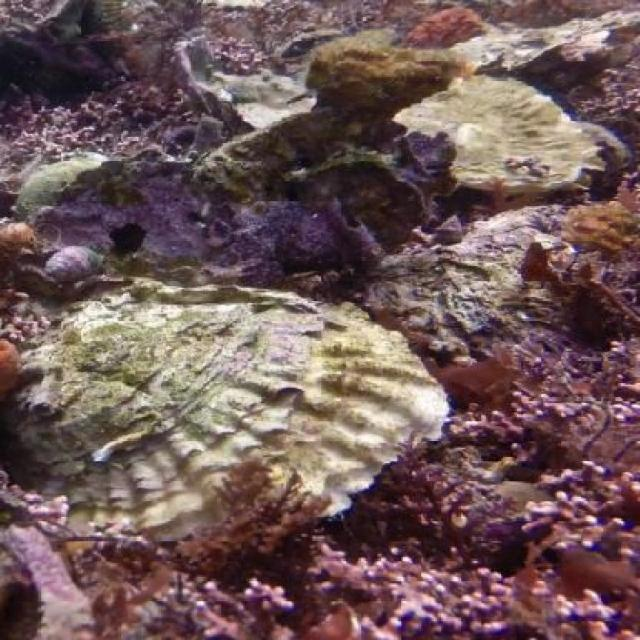Oyster-Closed: (11, 278, 445, 549), (397, 78, 599, 200), (0, 136, 116, 222)
